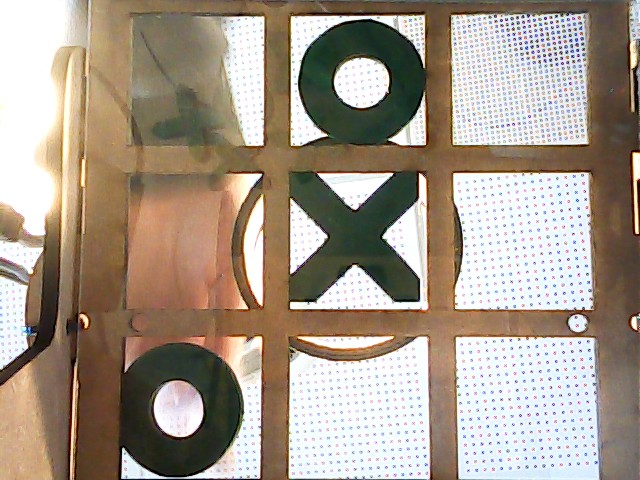O: (291, 18, 425, 143), (126, 339, 244, 479)
X: (289, 172, 428, 307)
